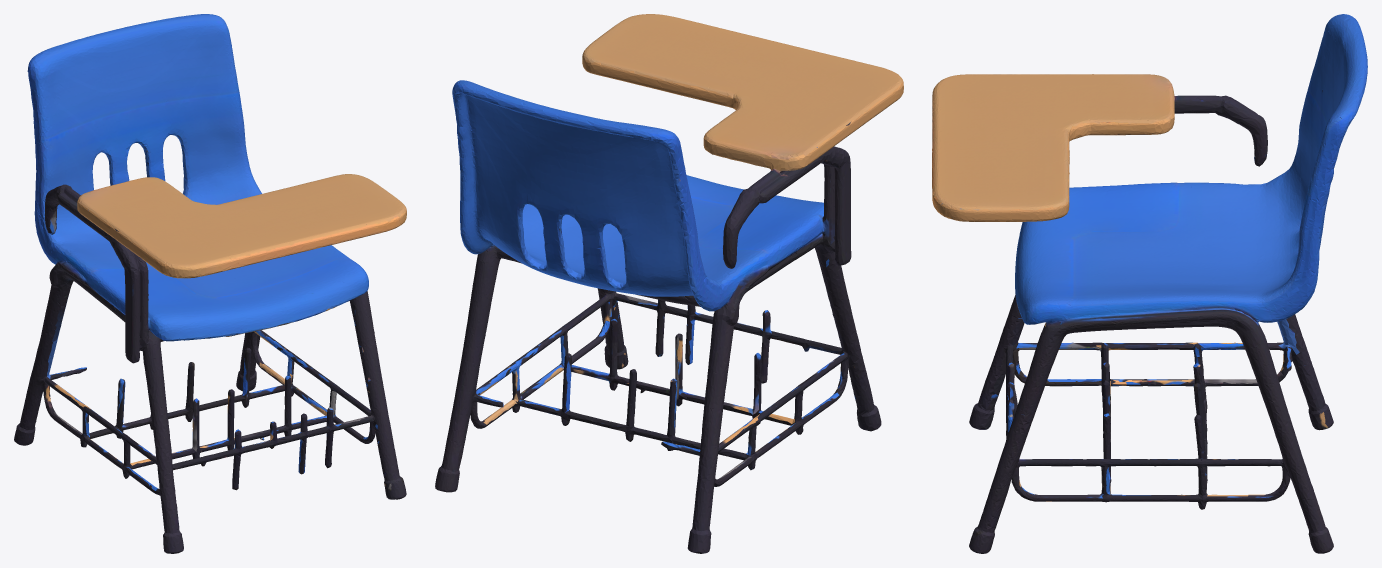
3 views of the same model, side by side, from view 1: azimuth 30°, elevation 25°; view 2: azimuth 150°, elevation 25°; view 3: azimuth 270°, elevation 25° (orthographic). The views are drawn at different scales.
Visible parts, largest first — view 1: world; view 2: world; view 3: world.
Boxes of the visible parts, x1=… form: world: x1=14, y1=14, x2=406, y2=553; world: x1=435, y1=14, x2=903, y2=553; world: x1=932, y1=14, x2=1367, y2=553.
Size of the model in its own units: 1.41 by 2 by 1.85.
Materials: 1 (1 with a texture image).
